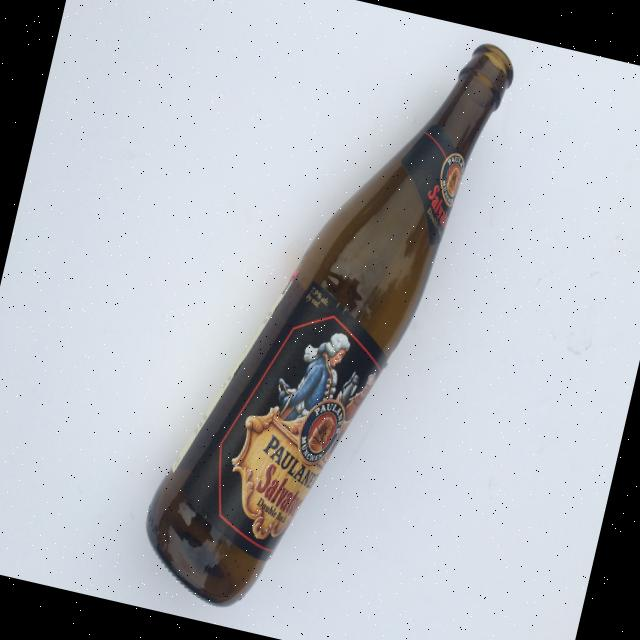glass: (128, 0, 519, 640)
